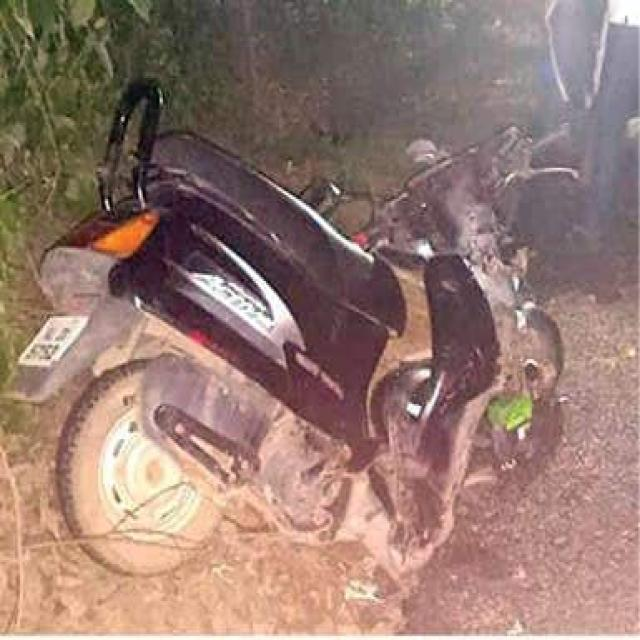accident: (11, 84, 564, 589)
